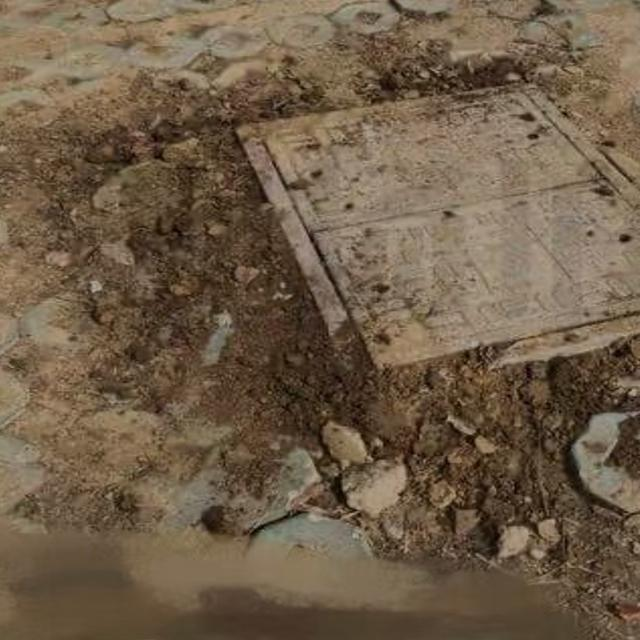circle: (191, 74, 640, 424)
